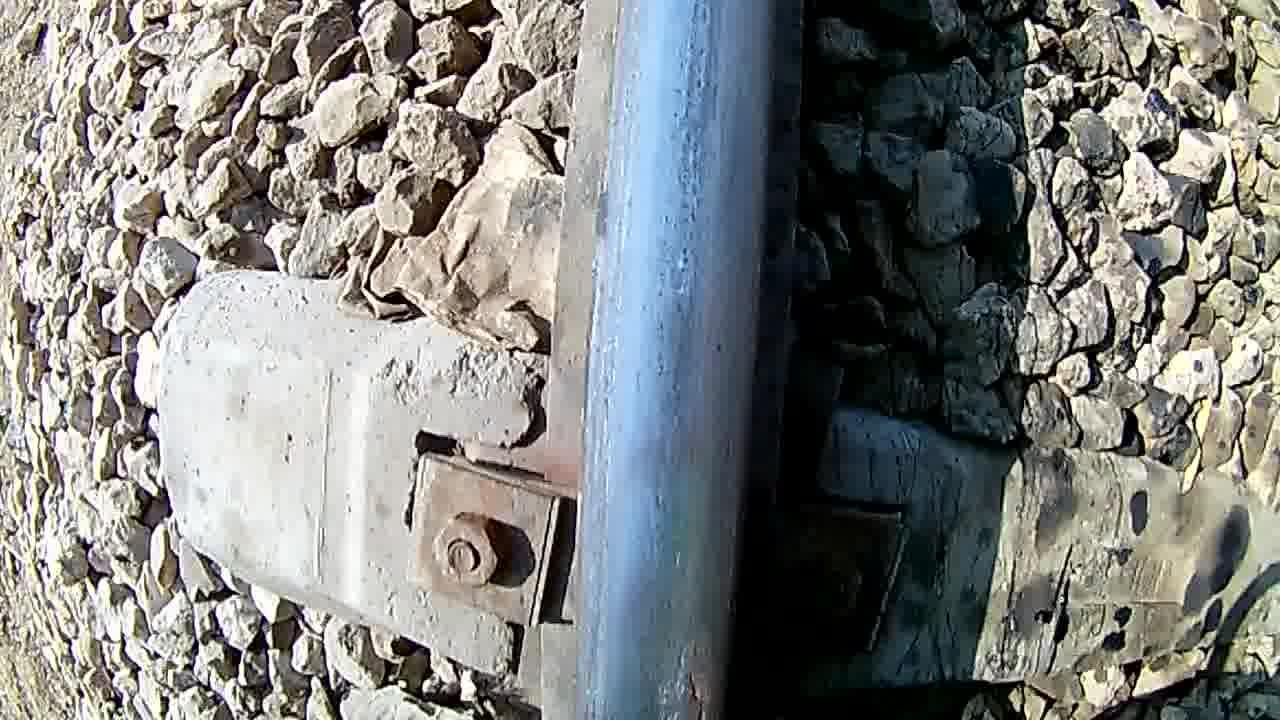crack: (619, 0, 760, 720)
